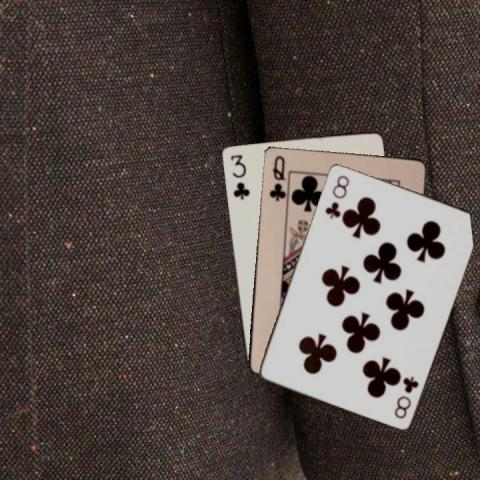3c: (227, 151, 251, 201)
8c: (321, 172, 351, 220), (391, 373, 420, 420)
Qc: (266, 152, 287, 203)
